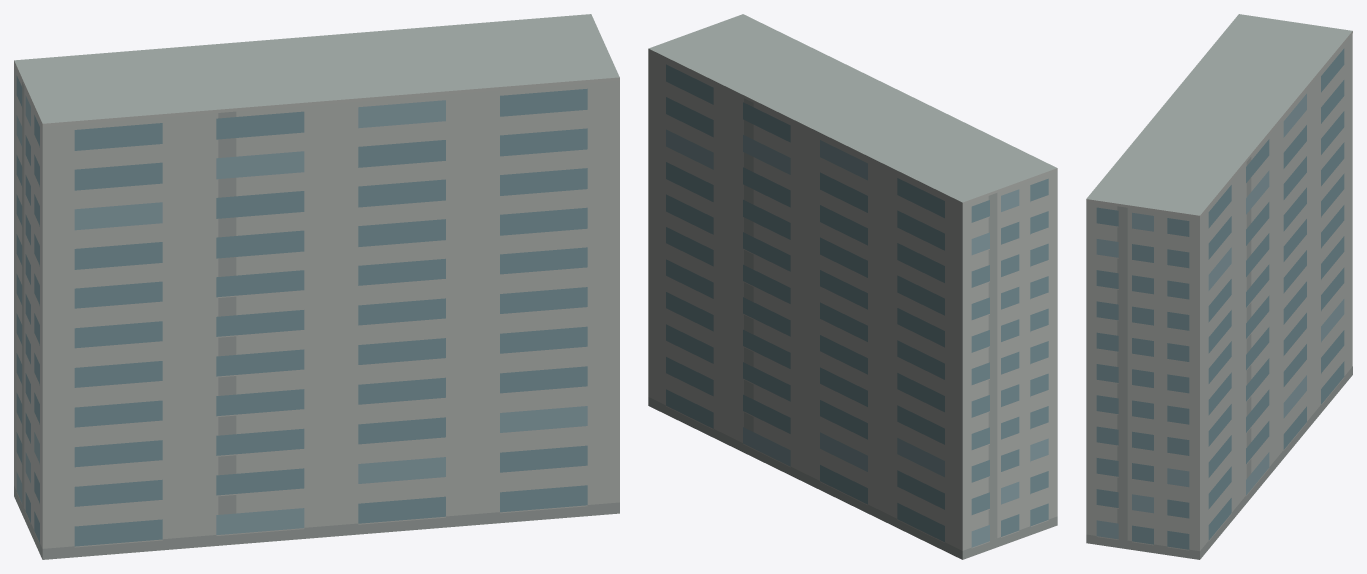
File: residential-f4c32e9f-47d4-4b04-bd80-f2cb76afd054.glb
The picture shows the model from 3 angles, left to right: view 1: azimuth 30°, elevation 25°; view 2: azimuth 150°, elevation 25°; view 3: azimuth 270°, elevation 25°; orthographic projection. The views are drawn at different scales.
Parts seen in each view (by area): view 1: residential-f4c32e9f-47d4-4b04-bd80-f2cb76afd054.tmp; view 2: residential-f4c32e9f-47d4-4b04-bd80-f2cb76afd054.tmp; view 3: residential-f4c32e9f-47d4-4b04-bd80-f2cb76afd054.tmp.
Part boxes in pixels (<box>): residential-f4c32e9f-47d4-4b04-bd80-f2cb76afd054.tmp: <box>14,14,619,559</box>; residential-f4c32e9f-47d4-4b04-bd80-f2cb76afd054.tmp: <box>648,14,1057,559</box>; residential-f4c32e9f-47d4-4b04-bd80-f2cb76afd054.tmp: <box>1086,14,1352,559</box>.
Size of the model in its own units: 40.25 by 32 by 22.48.
